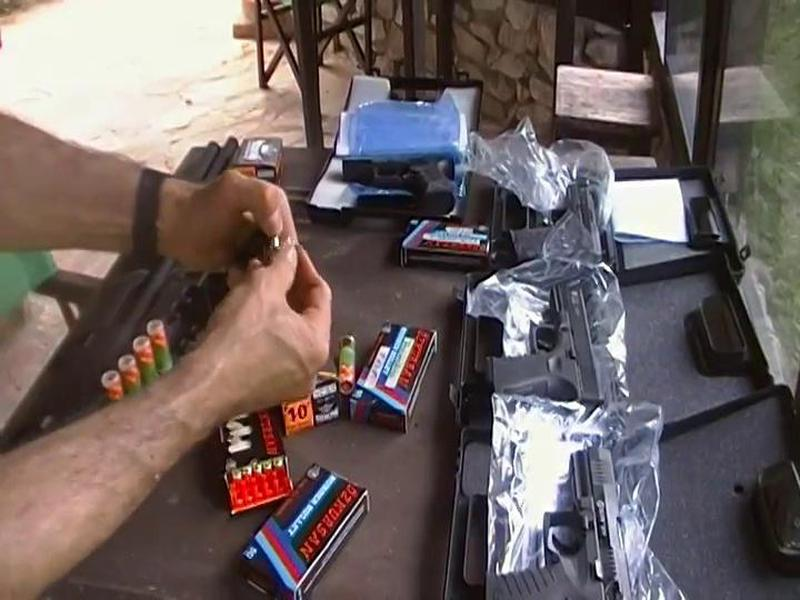Pistola: (456, 441, 640, 600), (481, 277, 618, 425)
